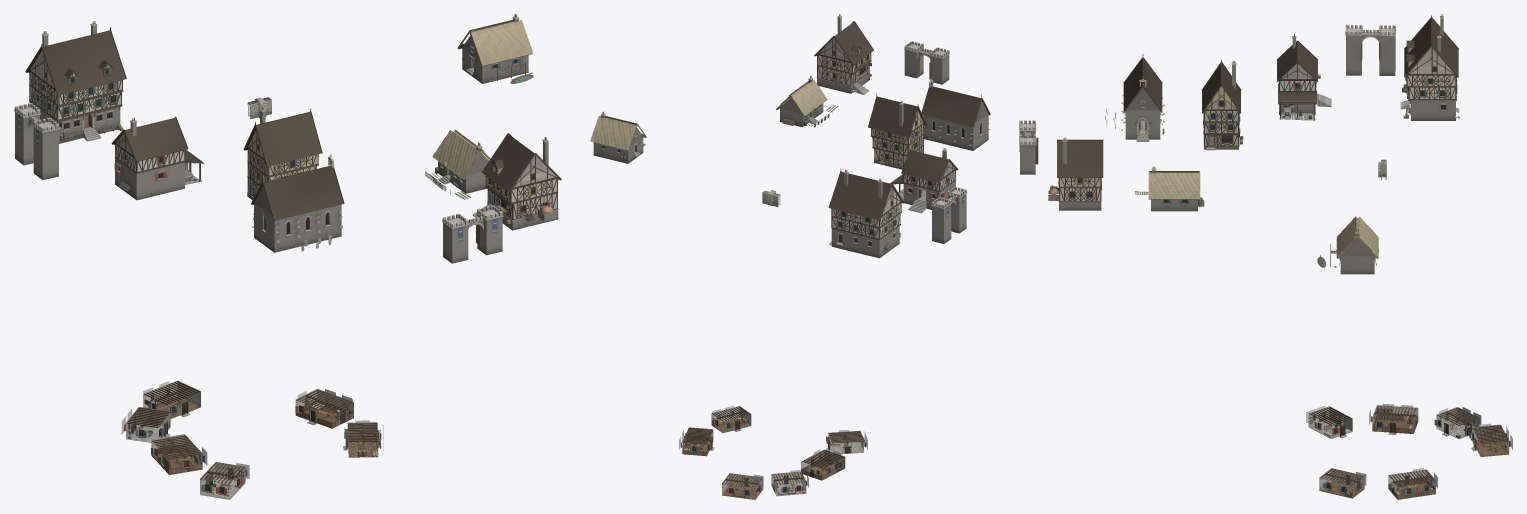
File: village_ext.glb
3 renders of one model, left to right at view 1: azimuth 30°, elevation 25°; view 2: azimuth 150°, elevation 25°; view 3: azimuth 270°, elevation 25°, orthographic. The views are drawn at different scales.
Parts seen in each view (by area): view 1: tavern_wood_0, tallhouse_wood_0, chapel_stone, chapel_wood, smithy_wood, bakery_wood_0, gate_west_stone, gate_south_stone, fisher_thatch, smithy_stone, tavern_plaster, bakery_plaster (+16 smaller); view 2: tavern_wood_3, smithy_wood, chapel_wood, chapel_stone, tallhouse_wood_2, gate_west_stone, tavern_stone, gate_south_stone, bakery_wood_0, fisher_thatch, tavern_plaster, bakery_plaster (+15 smaller); view 3: bakery_wood_2, tavern_wood_3, smithy_wood, gate_west_stone, tallhouse_wood_2, chapel_stone, cottage_thatch, tavern_plaster, chapel_wood, tavern_stone, fisher_thatch, room_house_a_wood (+14 smaller).
Part boxes in pixels (x1,y1,x2,y2): tavern_wood_0: [25, 31, 125, 142]; tallhouse_wood_0: [243, 112, 321, 196]; chapel_stone: [252, 154, 343, 252]; chapel_wood: [251, 161, 344, 220]; smithy_wood: [111, 116, 203, 190]; bakery_wood_0: [481, 133, 557, 223]; gate_west_stone: [14, 103, 59, 180]; gate_south_stone: [442, 205, 503, 263]; fisher_thatch: [457, 19, 533, 66]; smithy_stone: [115, 117, 201, 200]; tavern_plaster: [30, 50, 121, 119]; bakery_plaster: [486, 155, 556, 218]; tavern_wood_3: [828, 169, 891, 242]; smithy_wood: [890, 149, 958, 198]; chapel_wood: [921, 82, 990, 141]; chapel_stone: [923, 77, 989, 150]; tallhouse_wood_2: [868, 94, 917, 166]; gate_west_stone: [931, 186, 967, 243]; tavern_stone: [831, 169, 899, 258]; gate_south_stone: [904, 41, 949, 84]; bakery_wood_0: [833, 21, 873, 85]; fisher_thatch: [590, 116, 646, 150]; tavern_plaster: [832, 187, 900, 238]; bakery_plaster: [818, 37, 870, 84]; bakery_wood_2: [1057, 139, 1103, 201]; tavern_wood_3: [1403, 18, 1458, 118]; smithy_wood: [1276, 40, 1320, 119]; gate_west_stone: [1345, 24, 1396, 75]; tallhouse_wood_2: [1202, 62, 1242, 146]; chapel_stone: [1105, 54, 1164, 141]; cottage_thatch: [1148, 171, 1200, 199]; tavern_plaster: [1407, 47, 1455, 98]; chapel_wood: [1123, 57, 1164, 134]; tavern_stone: [1400, 14, 1459, 120]; fisher_thatch: [1336, 216, 1378, 258]; room_house_a_wood: [1371, 405, 1418, 433].
Size of the model in its own units: 90.54 by 77.81 by 94.28.
